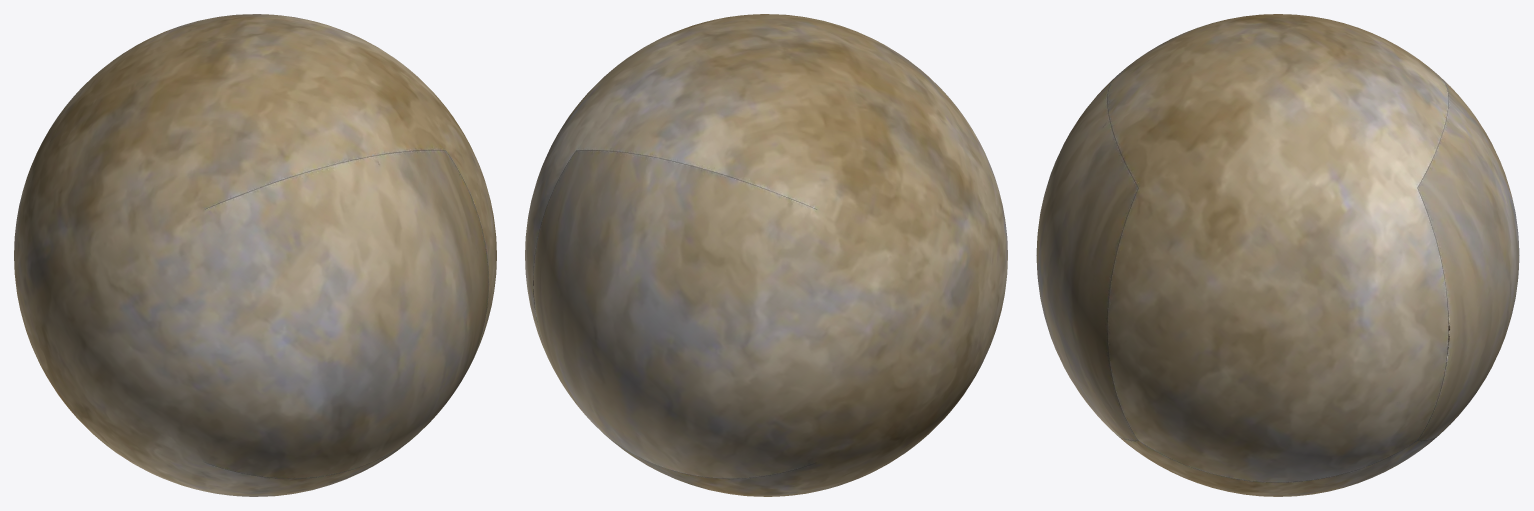
The picture shows the model from 3 angles, left to right: view 1: azimuth 30°, elevation 25°; view 2: azimuth 150°, elevation 25°; view 3: azimuth 270°, elevation 25°; orthographic projection.
Visible parts, largest first — view 1: Phoenix_LOD0__0; view 2: Phoenix_LOD0__0; view 3: Phoenix_LOD0__0.
Part boxes in pixels (box(x1,y1,x2,y2)): Phoenix_LOD0__0: box(14, 14, 496, 496); Phoenix_LOD0__0: box(525, 14, 1007, 496); Phoenix_LOD0__0: box(1036, 14, 1519, 496).
Size of the model in its own units: 3.41 by 3.41 by 3.41.
Materials: 1 (1 with a texture image).
